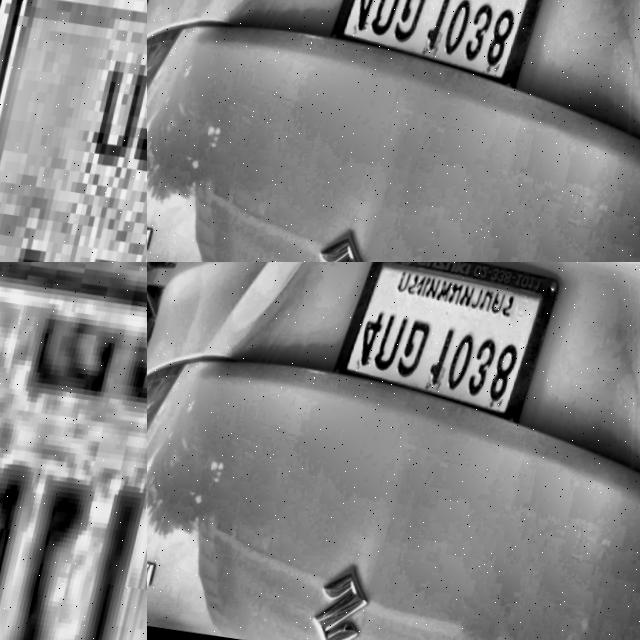license-plate: (0, 262, 147, 640), (324, 262, 569, 434), (0, 0, 147, 262), (321, 0, 566, 99)
